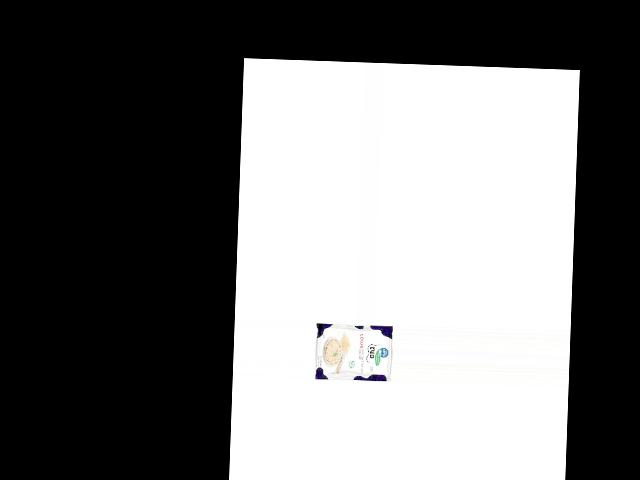cheese: (313, 321, 393, 382)
